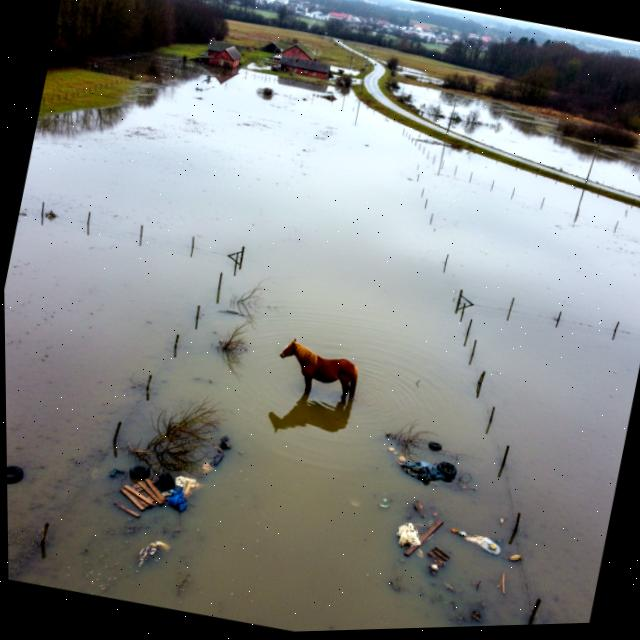horse: (258, 330, 380, 426)
